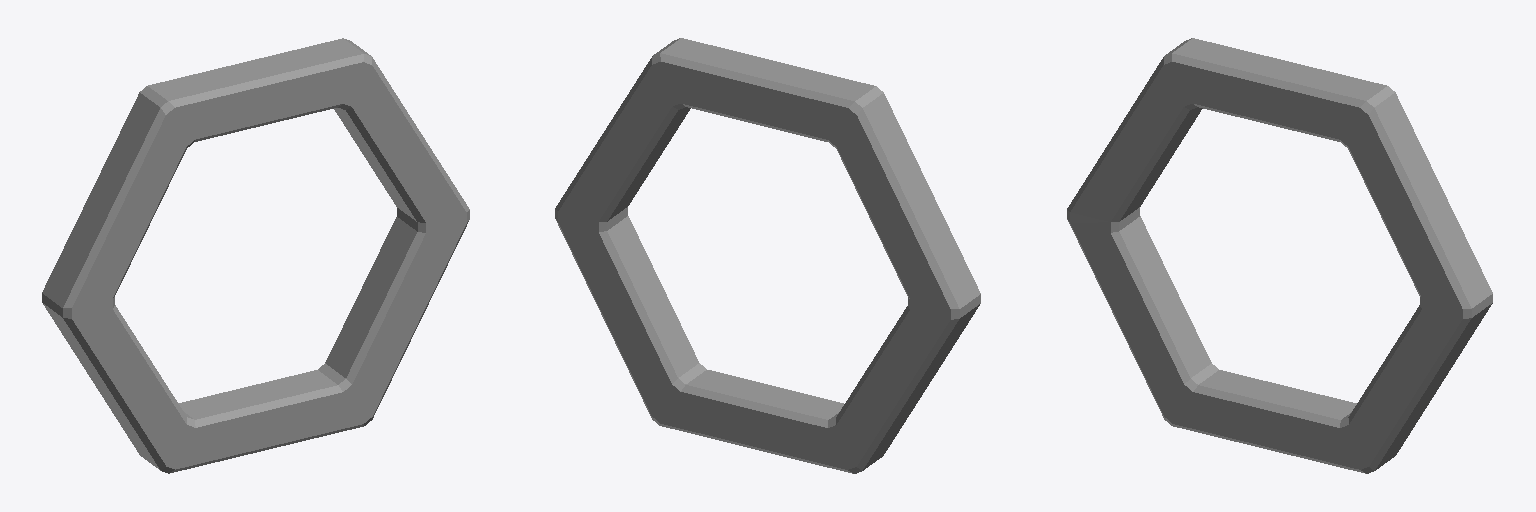
Rendered from ring.obj.
3 renders of one model, left to right at view 1: azimuth 30°, elevation 25°; view 2: azimuth 150°, elevation 25°; view 3: azimuth 330°, elevation 25°, orthographic.
Parts seen in each view (by area): view 1: Circle.008_Circle.000_Circle.008_Circle.012; view 2: Circle.008_Circle.000_Circle.008_Circle.012; view 3: Circle.008_Circle.000_Circle.008_Circle.012.
Boxes of the visible parts, box(x1,y1,x2,y2) form: Circle.008_Circle.000_Circle.008_Circle.012: box(42, 38, 469, 473); Circle.008_Circle.000_Circle.008_Circle.012: box(555, 38, 980, 473); Circle.008_Circle.000_Circle.008_Circle.012: box(1067, 38, 1492, 473).
Bounding box in the file's own units: 0.1675 × 0.1469 × 0.0201.